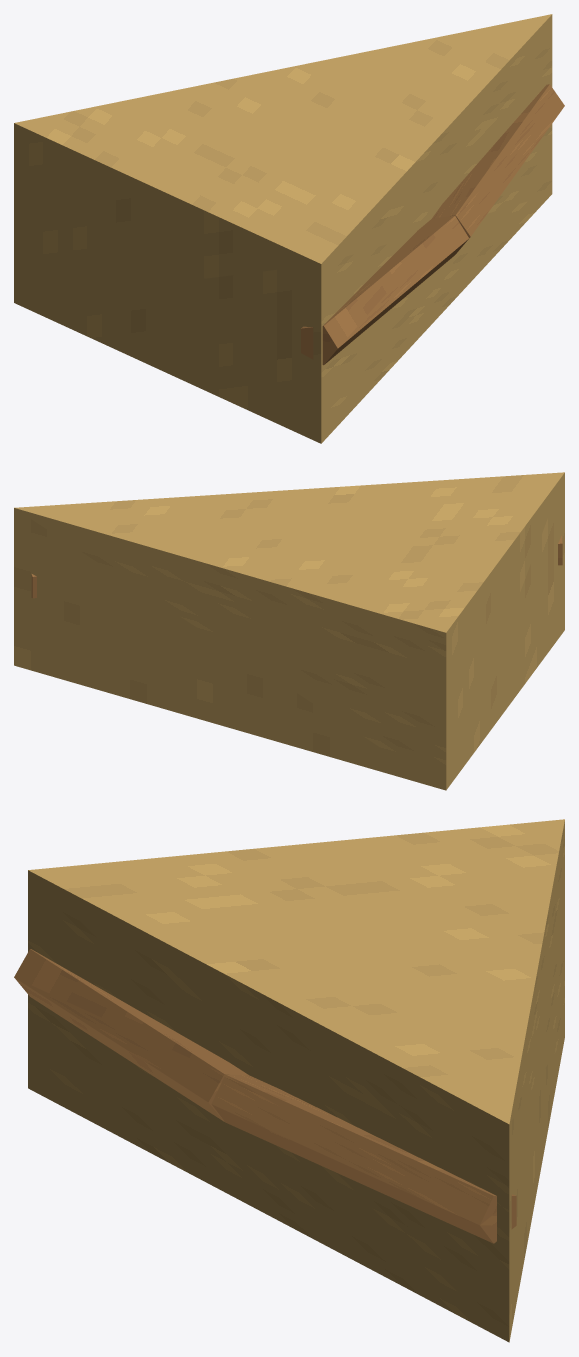
Rendered from cheese_hard.glb.
3 views of the same model, one above another, from view 1: azimuth 30°, elevation 25°; view 2: azimuth 150°, elevation 25°; view 3: azimuth 270°, elevation 25° (orthographic). The views are drawn at different scales.
Visible parts, largest first — view 1: block_cut aged cheese wedge, block_golden rind 1, block_golden rind 0; view 2: block_cut aged cheese wedge; view 3: block_cut aged cheese wedge, block_golden rind 0, block_golden rind 1.
Boxes of the visible parts, x1,y1,x2,y2 form: block_cut aged cheese wedge: (14,14,552,443); block_golden rind 1: (301,215,468,365); block_golden rind 0: (432,84,564,246); block_cut aged cheese wedge: (14,472,564,790); block_cut aged cheese wedge: (28,819,564,1342); block_golden rind 0: (211,1074,516,1243); block_golden rind 1: (14,949,248,1121).
Bounding box in the file's own units: 0.078 × 0.026 × 0.0595.
1 material, 1 textured.
